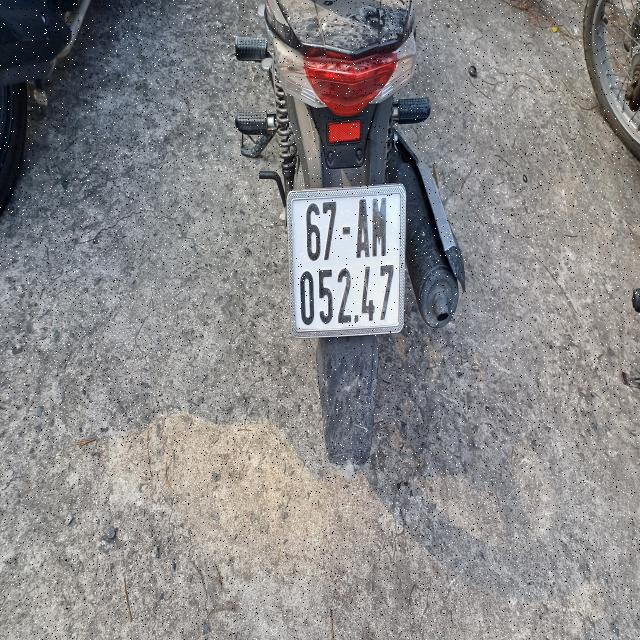0: (297, 267, 314, 324)
2: (335, 270, 353, 323)
4: (362, 266, 377, 321)
5: (317, 264, 333, 324)
6: (305, 202, 322, 264)
7: (322, 200, 338, 262), (380, 265, 395, 320)
A: (357, 198, 370, 261)
M: (372, 198, 388, 258)
